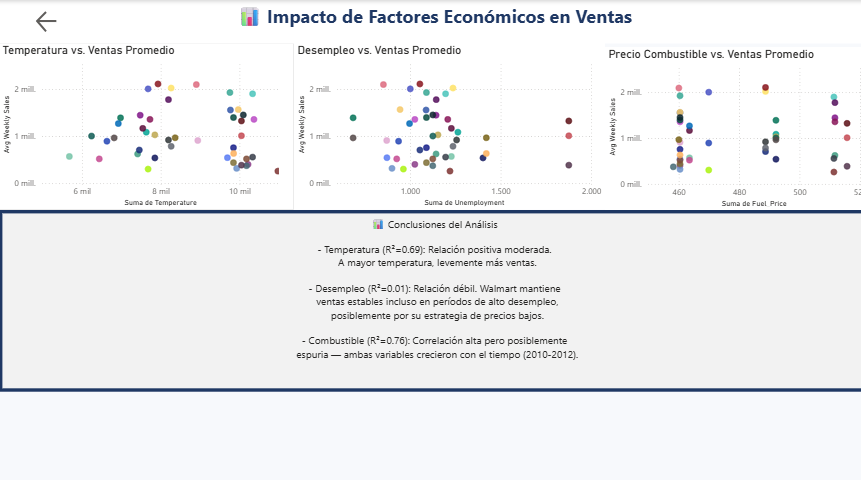

The page's visual inventory and layout, read from the dashboard file:
{"tool":"powerbi","page":{"name":"Factores Económicos","canvas":[1280,720],"ordinal":2},"visuals":[{"type":"scatterChart","title":"Temperatura vs. Ventas Promedio","fields":{"Y":["Walmart_Sales.Avg Weekly Sales"],"X":["Sum(Walmart_Sales.Temperature)"],"Series":["Walmart_Sales.Store"]},"box":[0,63.8,433.4,245.2],"z":0},{"type":"actionButton","box":[0,0,100,40],"z":1000},{"type":"scatterChart","title":"Desempleo vs. Ventas Promedio","fields":{"X":["Sum(Walmart_Sales.Unemployment)"],"Y":["Walmart_Sales.Avg Weekly Sales"],"Series":["Walmart_Sales.Store"]},"box":[433.4,63.8,456.9,245.2],"z":2000},{"type":"scatterChart","title":"Precio Combustible vs. Ventas Promedio","fields":{"X":["Sum(Walmart_Sales.Fuel_Price)"],"Y":["Walmart_Sales.Avg Weekly Sales"],"Series":["Walmart_Sales.Store"]},"box":[890.3,68.9,389.7,240.2],"z":3000},{"type":"textbox","box":[0,309.1,1280,267.1],"z":4000},{"type":"textbox","box":[0,0,1280,63.8],"z":5000},{"type":"actionButton","box":[50.4,11.8,100.8,40.3],"z":6000}]}

Visuals, with their boxes on the page's 1280x720 design canvas (x1, y1, x2, y2). These are canvas units, not pixel positions in the 861x480 screenshot, which may show the page scaled, cropped or inside an application window:
"Temperatura vs. Ventas Promedio" scatterChart: [0,64,433,309]
actionButton: [0,0,100,40]
"Desempleo vs. Ventas Promedio" scatterChart: [433,64,890,309]
"Precio Combustible vs. Ventas Promedio" scatterChart: [890,69,1280,309]
textbox: [0,309,1280,576]
textbox: [0,0,1280,64]
actionButton: [50,12,151,52]
